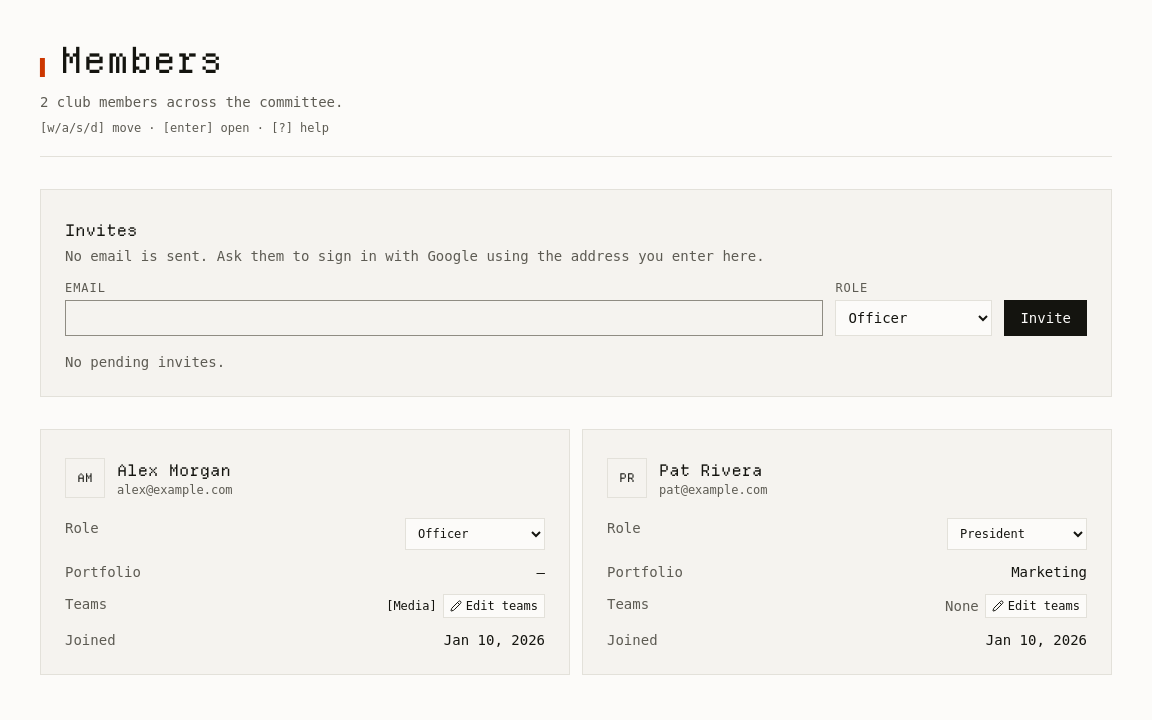
Test: MembersPage › team leads › names each team's current lead, since a new lead replaces them
Click the button with aria-label "Edit teams for Alex Morgan": (494, 606) [443,594,545,618]
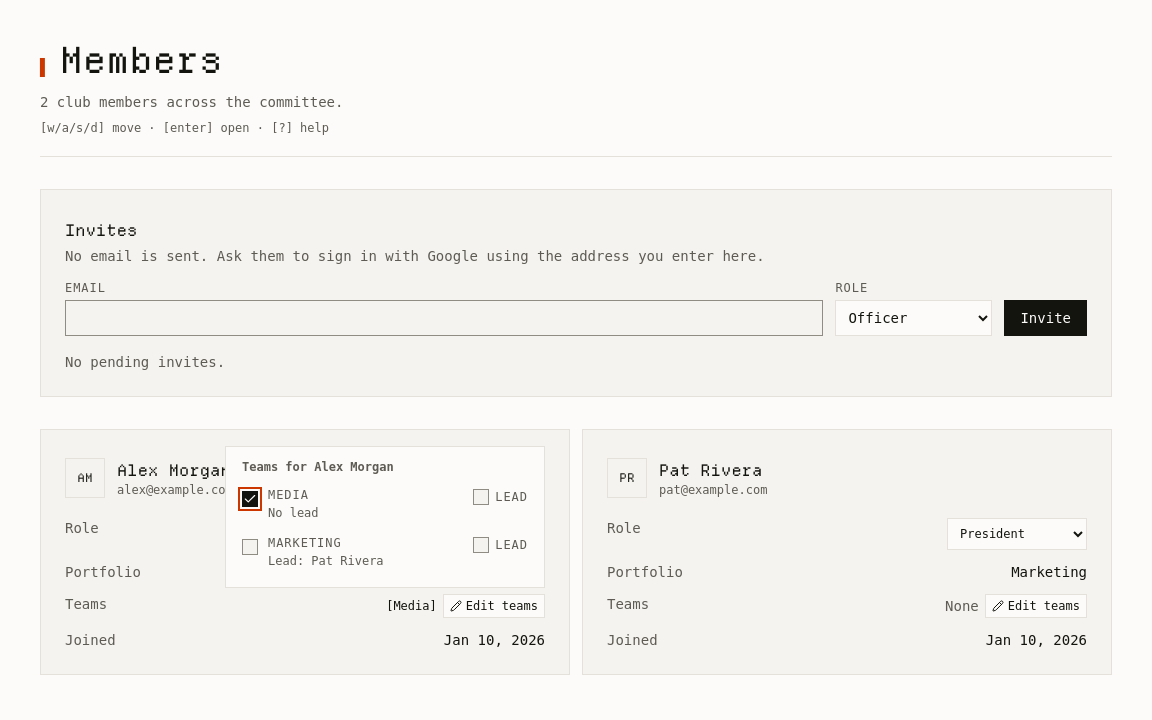
Result: the text "Lead: Pat Rivera" is shown at [268,554,384,568]
Result: the text "No lead" is shown at [268,506,319,520]
